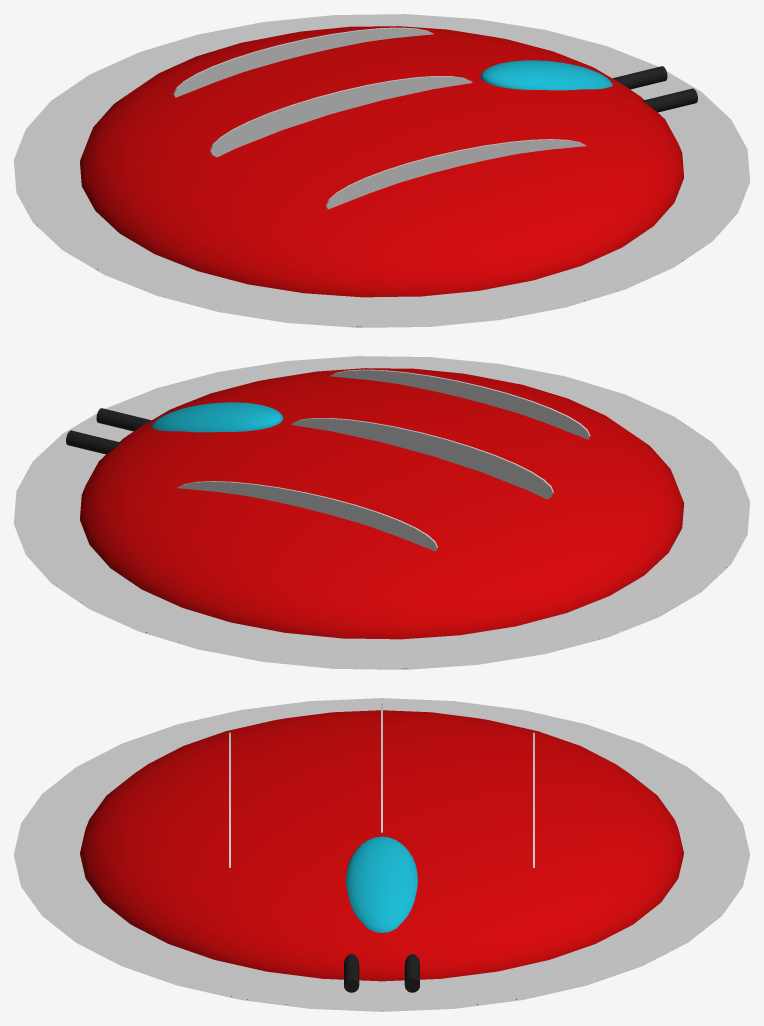
File: ovni 1.fbx
3 renders of one model, top to bottom at view 1: azimuth 30°, elevation 25°; view 2: azimuth 150°, elevation 25°; view 3: azimuth 270°, elevation 25°, orthographic.
Parts seen in each view (by area): view 1: Body, Ring, Wings, Cockpit, Canons; view 2: Body, Ring, Wings, Cockpit, Canons; view 3: Body, Ring, Cockpit, Canons, Wings.
Part boxes in pixels (x1,y1,x2,y2): Body: [80, 26, 683, 297]; Ring: [14, 14, 749, 327]; Wings: [173, 27, 586, 209]; Cockpit: [480, 60, 612, 90]; Canons: [612, 66, 697, 112]; Body: [80, 368, 683, 639]; Ring: [14, 356, 749, 669]; Wings: [177, 369, 590, 551]; Cockpit: [151, 402, 283, 432]; Canons: [66, 408, 151, 454]; Body: [80, 710, 683, 981]; Ring: [14, 698, 749, 1011]; Cockpit: [346, 836, 417, 932]; Canons: [344, 954, 419, 992]; Wings: [229, 703, 534, 867].
Bounding box in the file's own units: 484 × 123 × 484.
